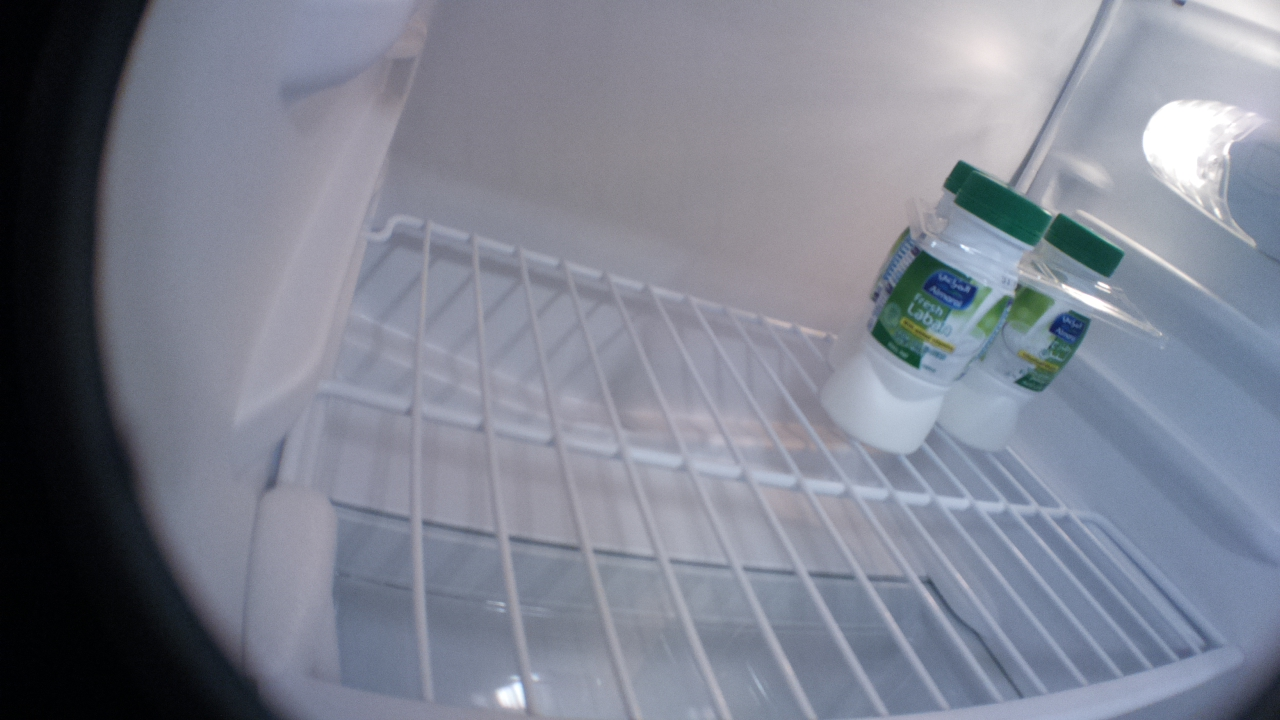laban: (818, 171, 1053, 453), (933, 212, 1124, 454), (920, 155, 1021, 237)
